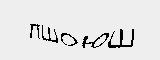О: (57, 27, 79, 51)
П: (27, 22, 42, 42)
Ш: (109, 26, 137, 49), (40, 22, 58, 46)
Ю: (81, 29, 107, 51)
